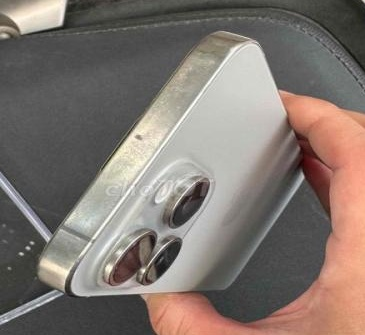scratch: (58, 54, 263, 246)
